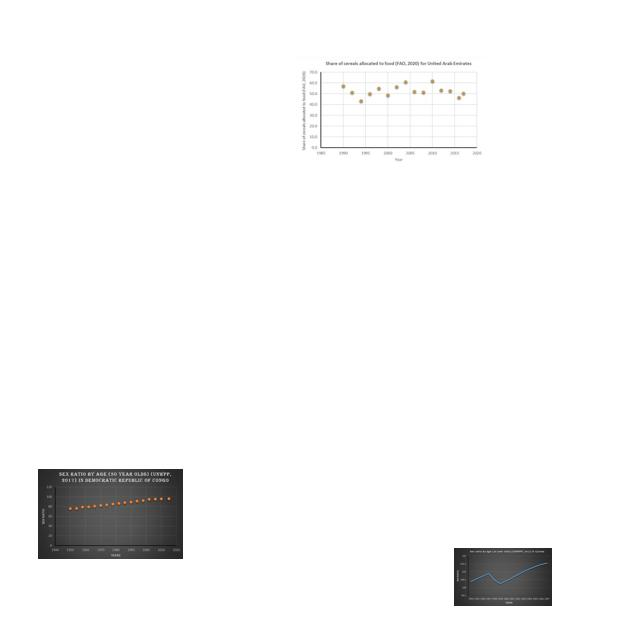Graph: (298, 57, 485, 167), (38, 469, 183, 559), (454, 548, 552, 606)
